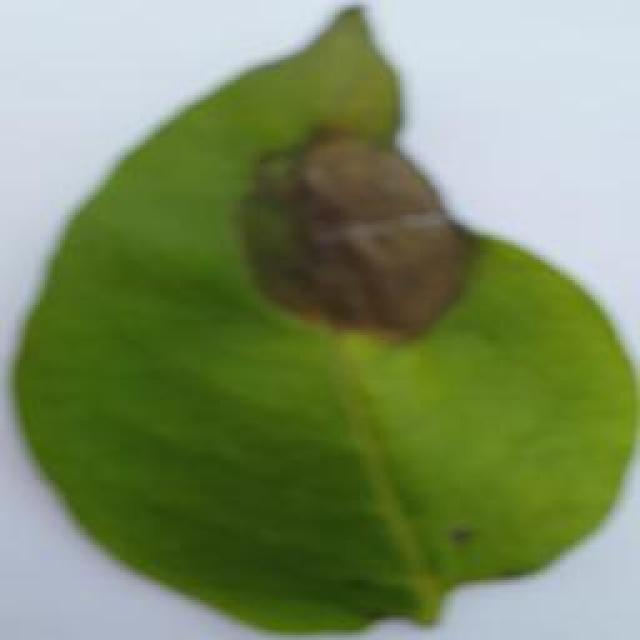Potato_Late_Blight: (22, 28, 621, 620)
